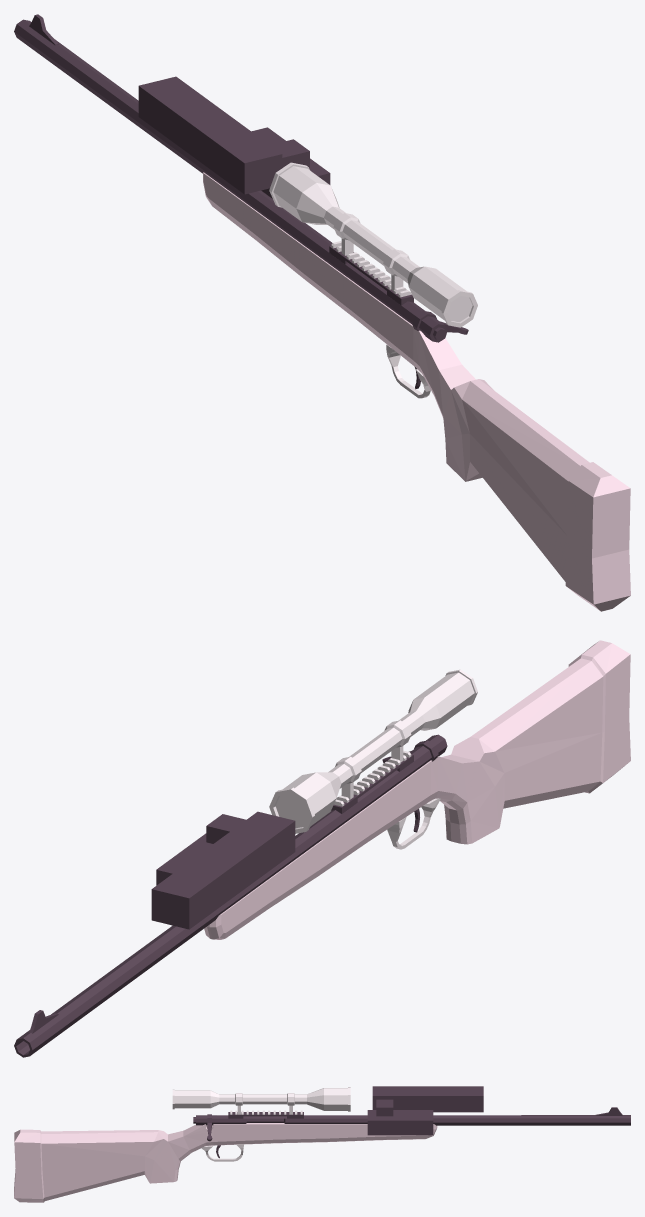
File: SniperRifle_1.obj
3 views of the same model, one above another, from view 1: azimuth 30°, elevation 25°; view 2: azimuth 150°, elevation 25°; view 3: azimuth 270°, elevation 25° (orthographic). The views are drawn at different scales.
Parts seen in each view (by area): view 1: Panel, Hardware, Body, Bolt; view 2: Panel, Hardware, Body, Bolt; view 3: Panel, Hardware, Body, Bolt.
Part boxes in pixels (x1,y1,x2,y2): Panel: (203,172,630,611); Hardware: (14,14,468,389); Body: (269,162,477,398); Bolt: (138,76,309,194); Panel: (204,640,630,939); Hardware: (14,734,447,1057); Body: (269,669,477,849); Bolt: (151,811,295,929); Panel: (14,1123,437,1202); Hardware: (193,1107,630,1158); Body: (172,1087,350,1161); Bolt: (372,1086,483,1116).
Size of the model in its own units: 0.517 by 1.32 by 6.5.
